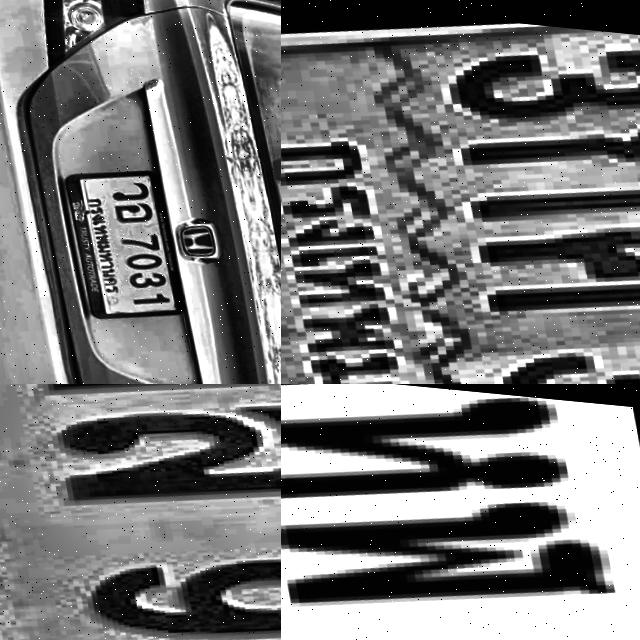license-plate: (281, 0, 640, 384), (281, 384, 640, 640), (0, 384, 281, 640), (59, 154, 184, 321)
